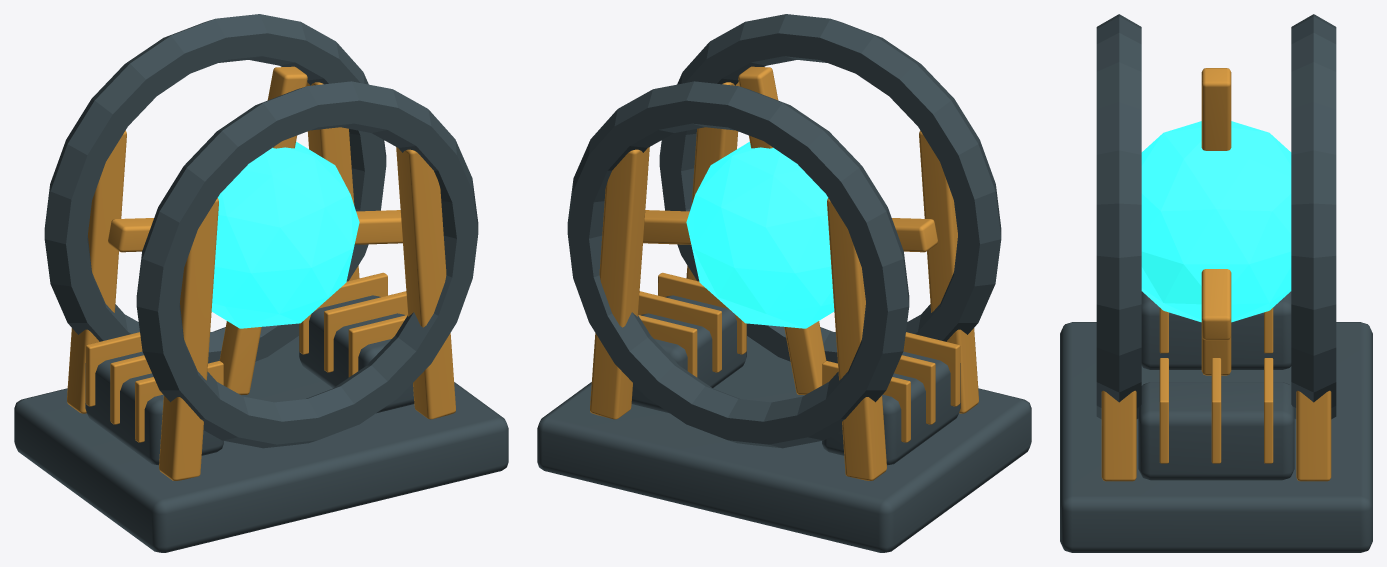
Rendered from singularity.glb.
3 views of the same model, side by side, from view 1: azimuth 30°, elevation 25°; view 2: azimuth 150°, elevation 25°; view 3: azimuth 270°, elevation 25° (orthographic). The views are drawn at different scales.
Parts seen in each view (by area): view 1: singularity; view 2: singularity; view 3: singularity.
Part boxes in pixels (<box>): singularity: <box>14,14,508,552</box>; singularity: <box>537,14,1031,552</box>; singularity: <box>1060,14,1372,552</box>.
Size of the model in its own units: 2.5 by 2.75 by 1.8.
